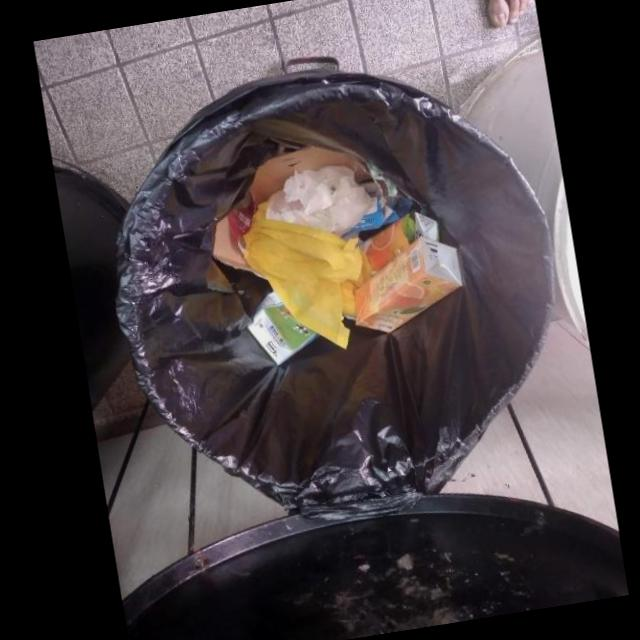carton: (212, 146, 373, 277)
giay: (266, 165, 372, 237)
vo_hop_sua: (354, 235, 462, 333), (247, 290, 322, 365), (360, 209, 438, 270)
